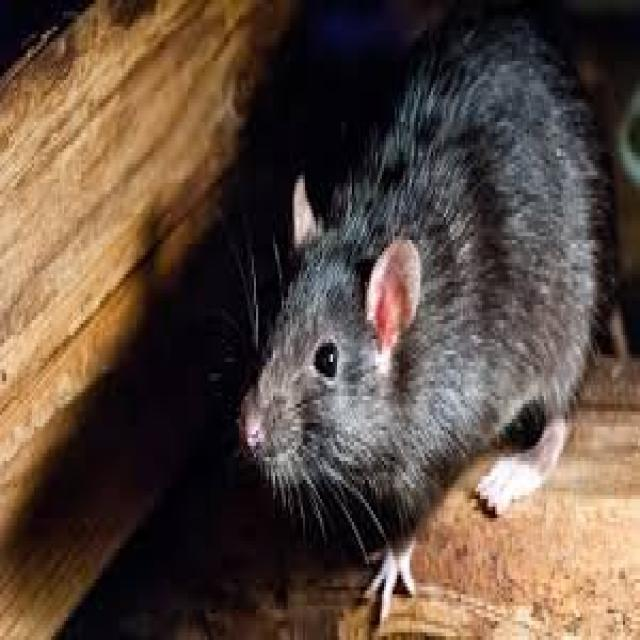rat: (239, 8, 612, 613)
